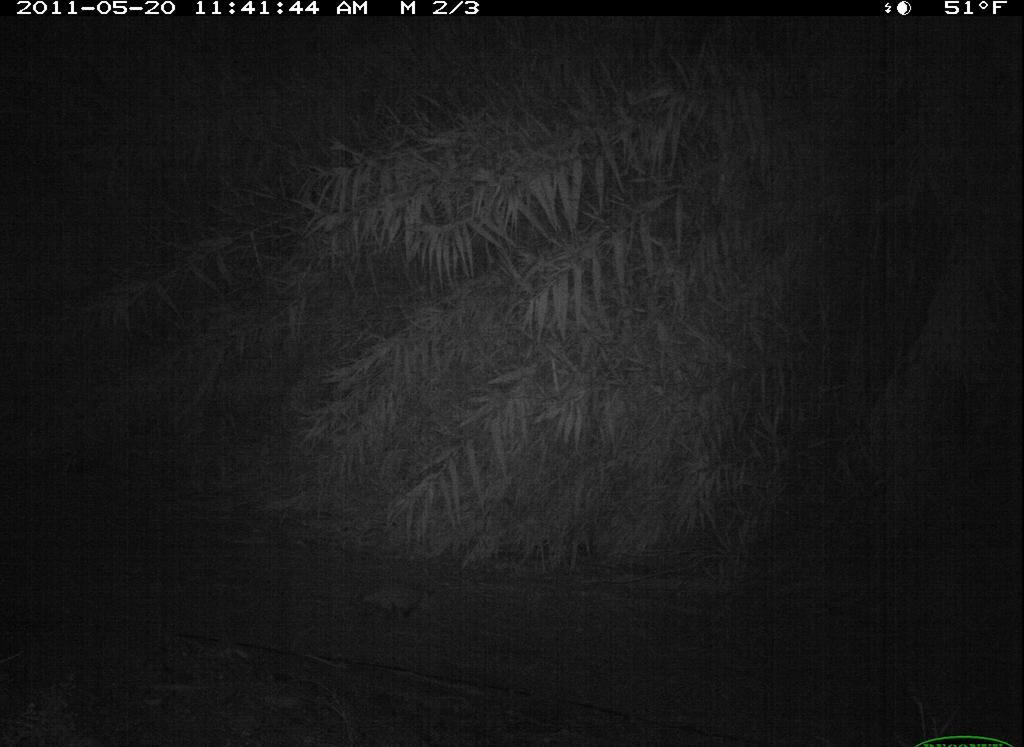opossum: (347, 575, 446, 632)
